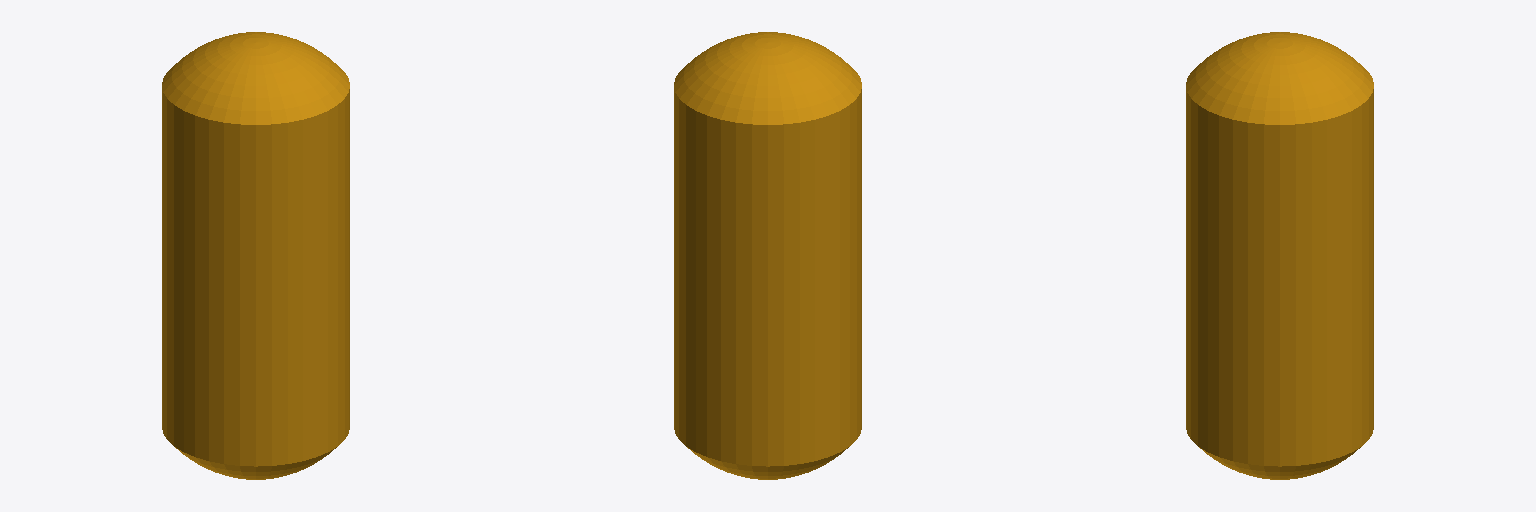
File: pila.obj
3 views of the same model, side by side, from view 1: azimuth 30°, elevation 25°; view 2: azimuth 150°, elevation 25°; view 3: azimuth 270°, elevation 25° (orthographic).
Parts seen in each view (by area): view 1: Cisterna; view 2: Cisterna; view 3: Cisterna.
Part boxes in pixels (left/top/right/bottom): Cisterna: left=162, top=32, right=349, bottom=479; Cisterna: left=674, top=32, right=861, bottom=479; Cisterna: left=1186, top=32, right=1373, bottom=479.
Size of the model in its own units: 1 by 2.5 by 1.